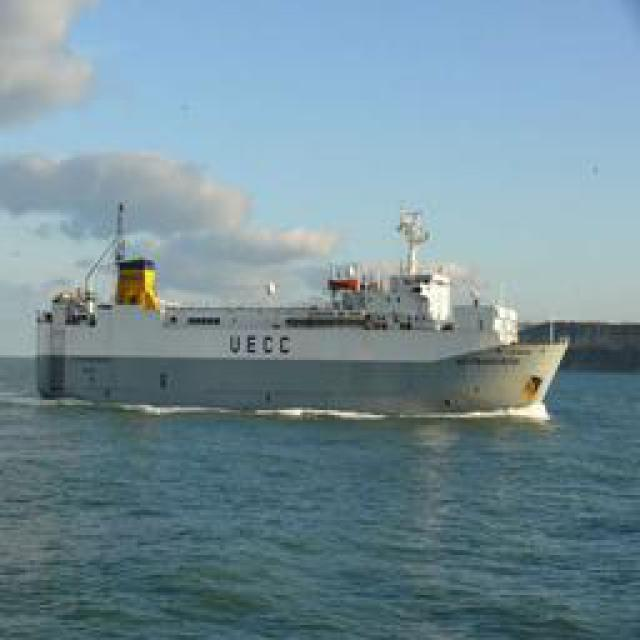Ship: (37, 191, 570, 424)
